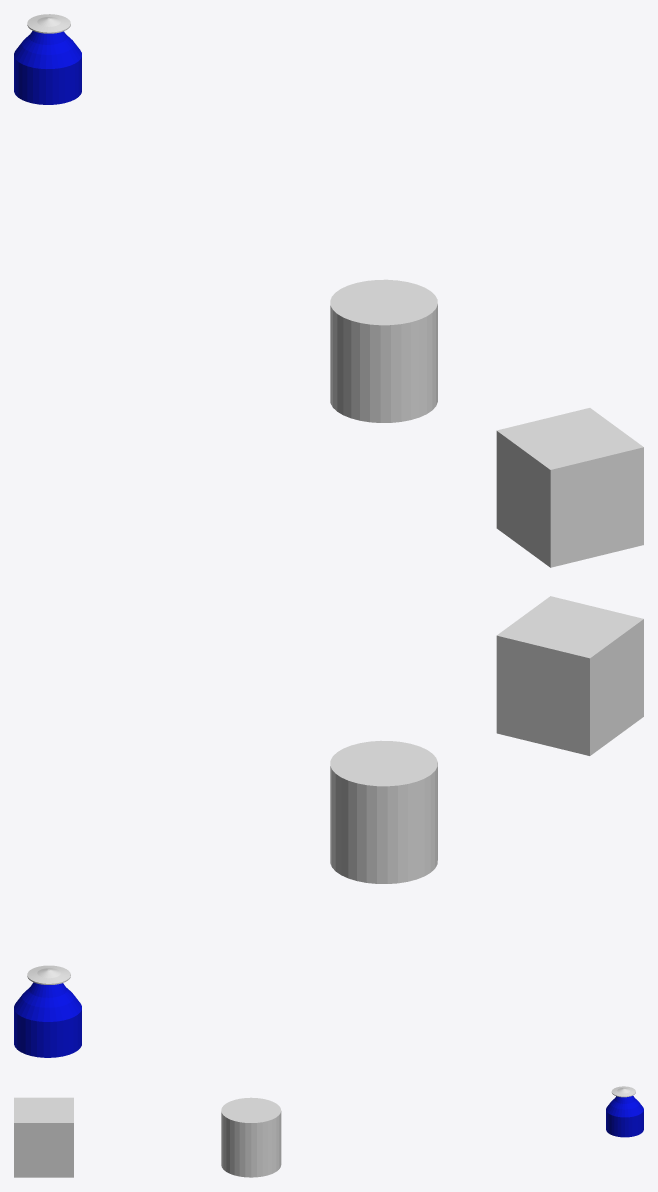
The model's file is урна с прахом.fbx.
The picture shows the model from 3 angles, top to bottom: view 1: azimuth 30°, elevation 25°; view 2: azimuth 150°, elevation 25°; view 3: azimuth 270°, elevation 25°; orthographic projection. The views are drawn at different scales.
Parts seen in each view (by area): view 1: Cube, Cylinder.001, Cylinder; view 2: Cube, Cylinder.001, Cylinder, Cylinder.002; view 3: Cube, Cylinder.001, Cylinder, Cylinder.002.
Boxes of the visible parts, x1,y1,x2,y2 form: Cube: (496, 408, 643, 567); Cylinder.001: (330, 279, 437, 422); Cylinder: (14, 31, 81, 104); Cube: (496, 596, 643, 755); Cylinder.001: (330, 740, 437, 883); Cylinder: (14, 982, 81, 1057); Cylinder.002: (27, 965, 70, 984); Cube: (14, 1097, 73, 1177); Cylinder.001: (221, 1097, 281, 1177); Cylinder: (606, 1096, 643, 1137); Cylinder.002: (611, 1086, 635, 1097).
Bounding box in the file's own units: 200 × 279 × 2098.
